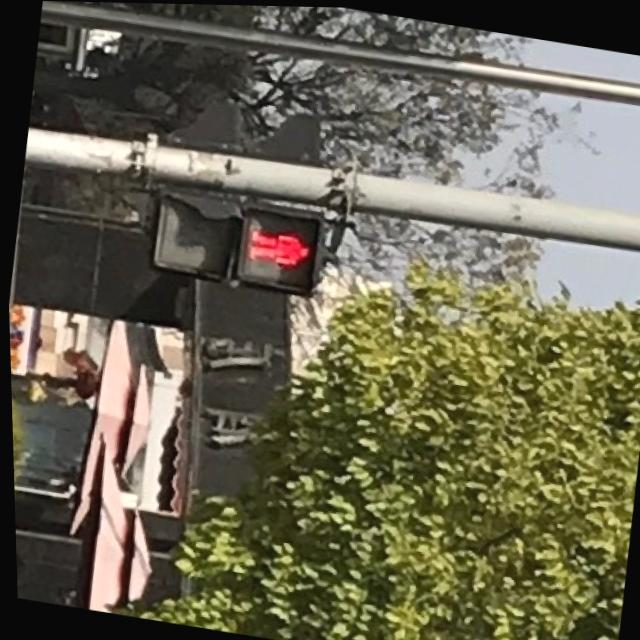red_light: (237, 209, 323, 294)
